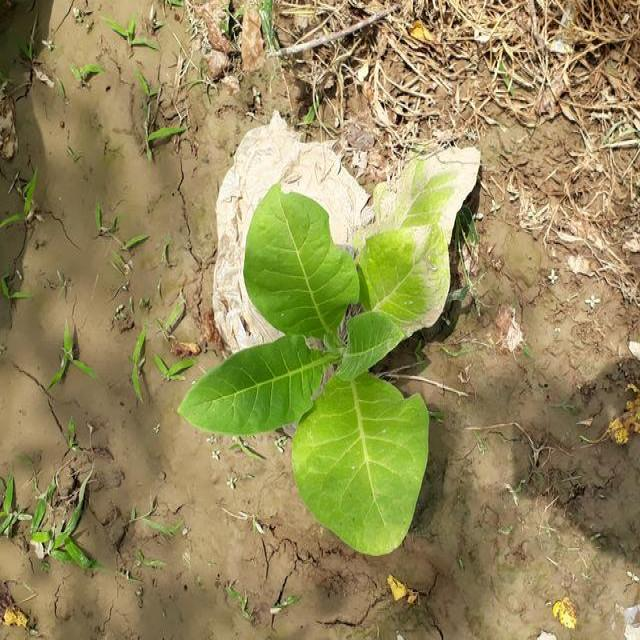crop: (212, 127, 478, 560)
